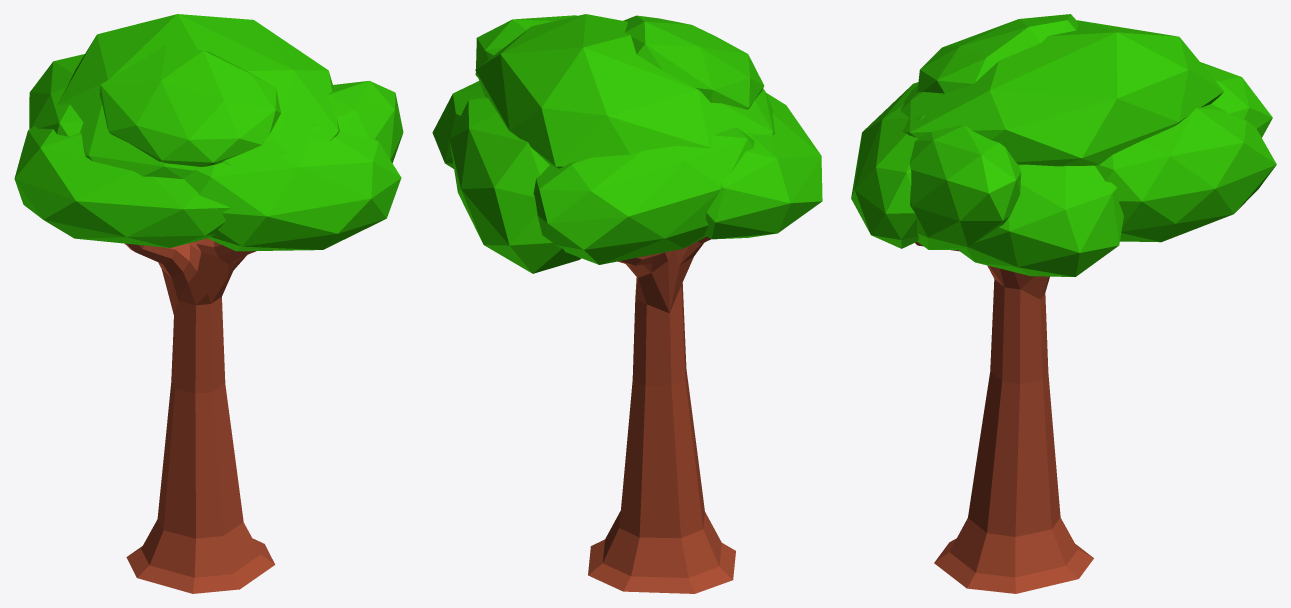
The picture shows the model from 3 angles, left to right: view 1: azimuth 30°, elevation 25°; view 2: azimuth 150°, elevation 25°; view 3: azimuth 270°, elevation 25°; orthographic projection. The views are drawn at different scales.
Parts seen in each view (by area): view 1: Tree; view 2: Tree; view 3: Tree.
Part boxes in pixels (x1,y1,x2,y2): Tree: (14, 14, 403, 593); Tree: (432, 14, 822, 593); Tree: (851, 14, 1276, 593).
Bounding box in the file's own units: 3.39 × 4.97 × 3.47.
